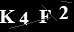2: (58, 5, 69, 20)
4: (18, 11, 30, 26)
F: (38, 9, 52, 24)
K: (1, 9, 15, 24)
